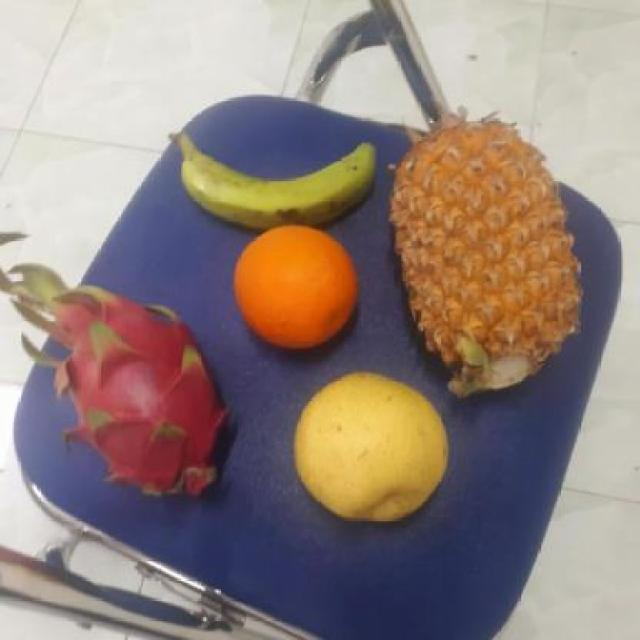banana: (182, 103, 382, 229)
dragon fruit: (46, 297, 240, 503)
oren: (233, 225, 364, 350)
pear: (295, 375, 453, 521)
pineapple: (391, 127, 578, 381)
